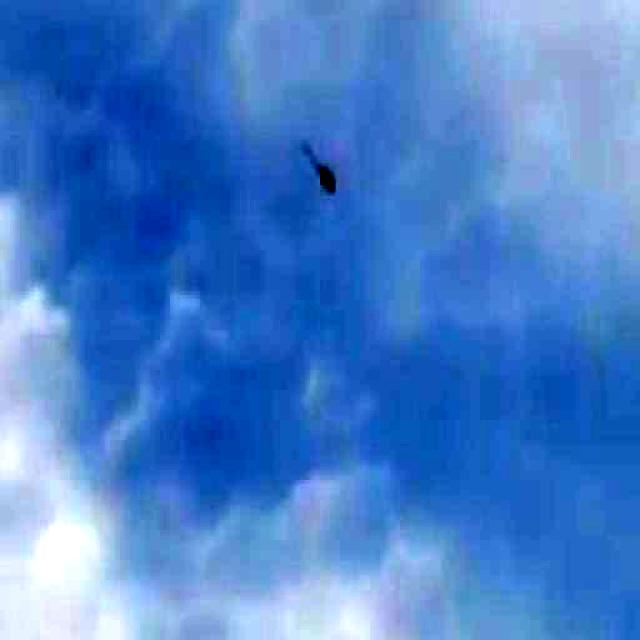drone: (298, 114, 354, 215)
